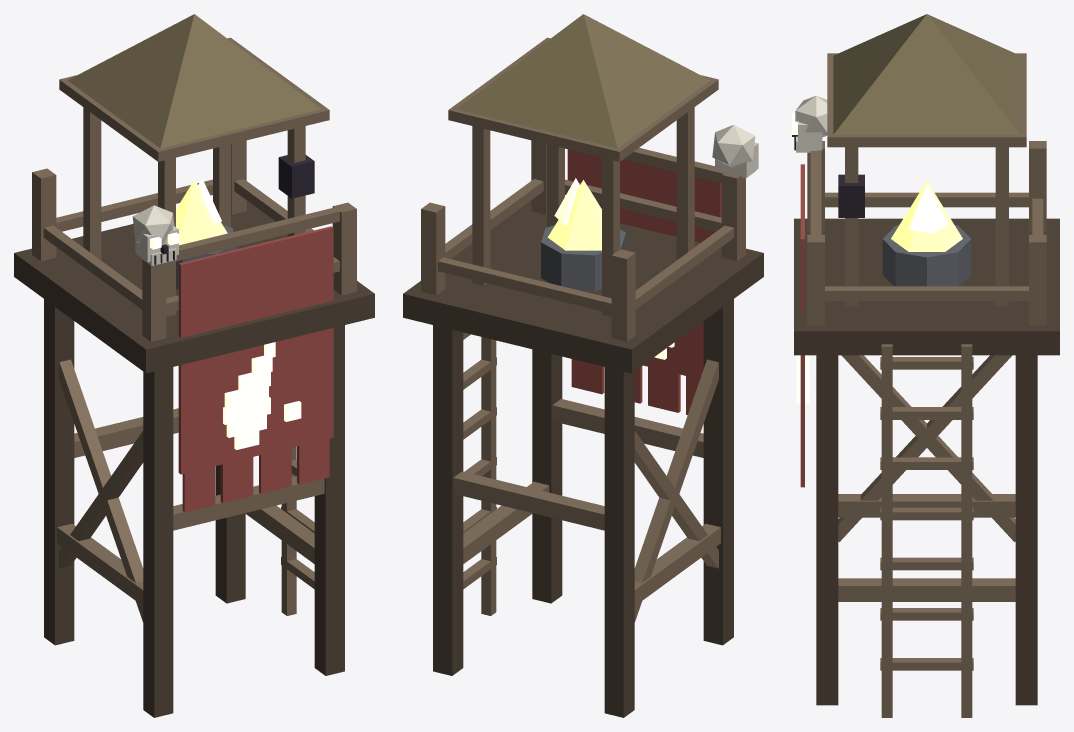
Rendered from watchtower.fbx.
The picture shows the model from 3 angles, left to right: view 1: azimuth 30°, elevation 25°; view 2: azimuth 150°, elevation 25°; view 3: azimuth 270°, elevation 25°; orthographic projection.
Visible parts, largest first — view 1: watchtower; view 2: watchtower; view 3: watchtower.
Boxes of the visible parts, <box> form: watchtower: <box>14,14,374,717</box>; watchtower: <box>403,14,763,717</box>; watchtower: <box>792,14,1059,717</box>.
Size of the model in its own units: 122 by 322 by 121.
